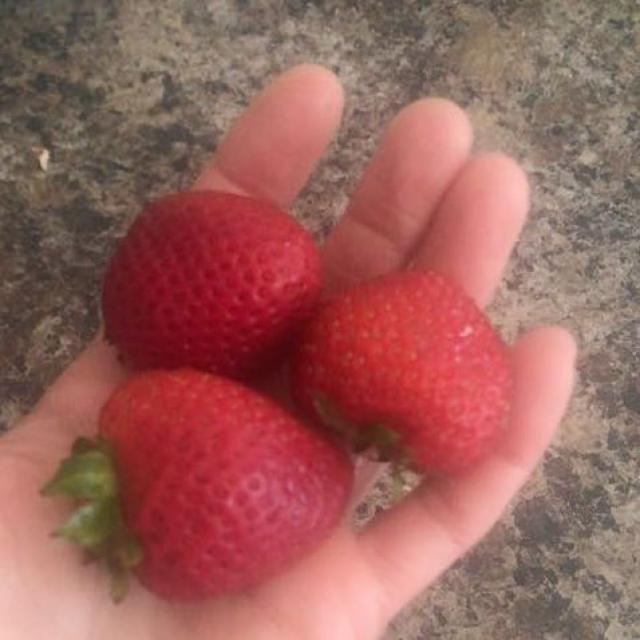strawberries: (44, 181, 543, 637)
